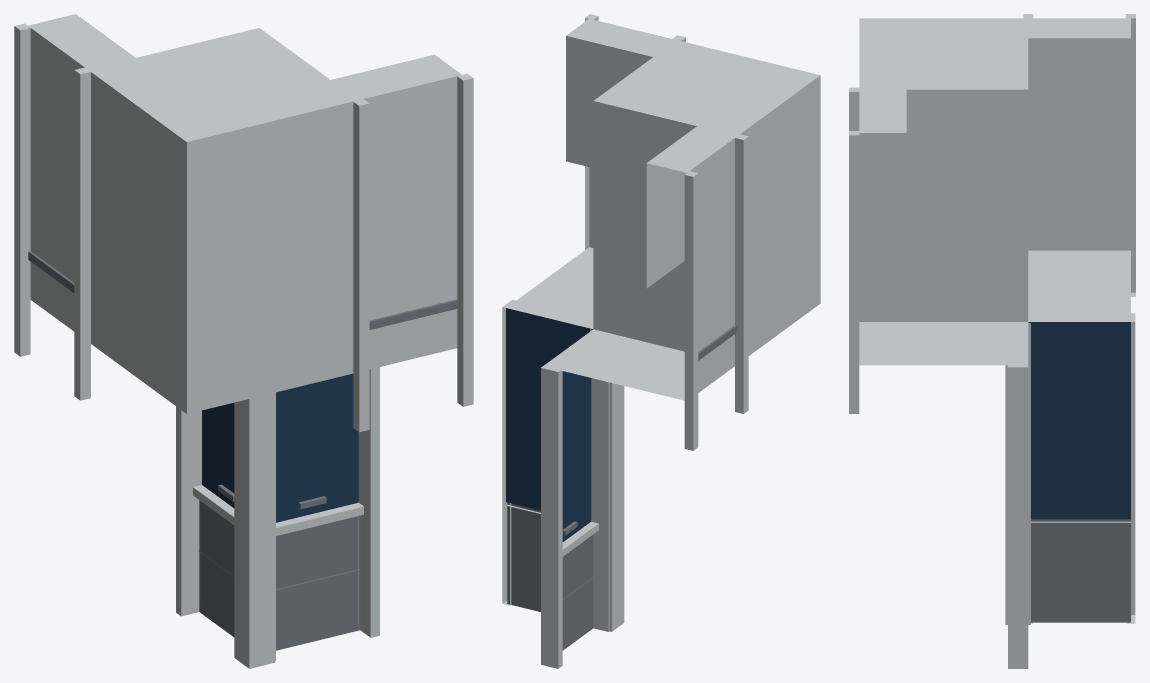
File: top-c1_close.fbx
3 renders of one model, left to right at view 1: azimuth 30°, elevation 25°; view 2: azimuth 150°, elevation 25°; view 3: azimuth 270°, elevation 25°, orthographic. The views are drawn at different scales.
Visible parts, largest first — view 1: a2010/0/top-c1_close; view 2: a2010/0/top-c1_close; view 3: a2010/0/top-c1_close.
Boxes of the visible parts, box(x1,y1,x2,y2) form: a2010/0/top-c1_close: box(14, 14, 473, 668); a2010/0/top-c1_close: box(502, 14, 820, 668); a2010/0/top-c1_close: box(849, 14, 1135, 668).
Size of the model in its own units: 2.24 by 4.6 by 2.24.
